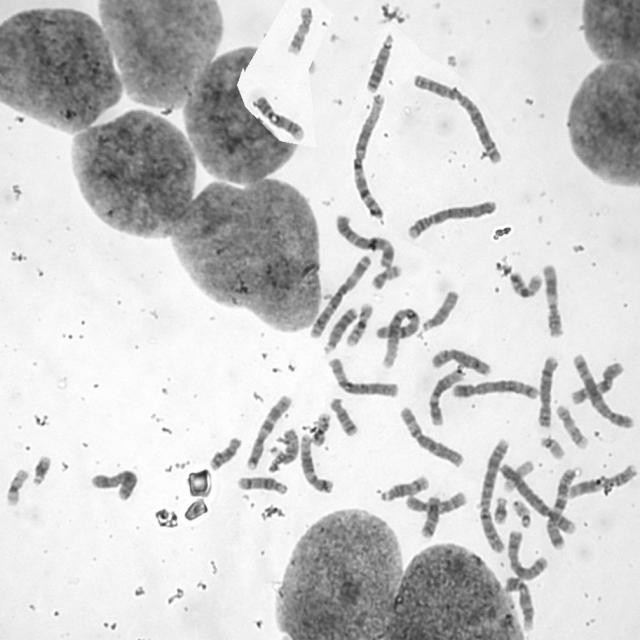A1: (349, 90, 388, 220), (375, 302, 421, 369)
A2: (409, 67, 505, 166), (474, 434, 512, 554)
A3: (306, 251, 374, 339), (332, 211, 396, 270)
B4: (498, 461, 578, 537), (404, 197, 498, 240)
B5: (569, 350, 635, 430), (449, 375, 542, 401)
C10: (568, 358, 624, 406), (402, 488, 468, 516)
C11: (564, 461, 638, 499), (540, 260, 566, 339)
C12: (296, 431, 336, 493), (427, 363, 466, 426)
C6: (395, 401, 466, 468), (325, 355, 400, 399)
C7: (242, 390, 294, 471), (543, 464, 578, 550)
C8: (534, 350, 560, 429), (428, 344, 492, 376)
C9: (251, 92, 306, 142), (503, 572, 536, 633)
D13: (364, 30, 396, 94), (321, 303, 360, 355)
D14: (378, 472, 432, 502), (234, 473, 290, 496)
D15: (419, 286, 461, 334), (269, 426, 299, 468)
E16: (344, 298, 375, 347), (506, 265, 544, 300)
E17: (554, 401, 589, 450), (283, 3, 314, 55)
E18: (206, 432, 244, 472), (327, 394, 359, 437)
F19: (501, 456, 536, 493), (2, 464, 30, 507)
F20: (369, 260, 404, 290), (309, 410, 332, 448)
G21: (28, 450, 54, 487), (490, 494, 508, 526)
G22: (538, 432, 567, 460), (511, 496, 534, 529)
X: (504, 525, 548, 581), (88, 466, 140, 502)
